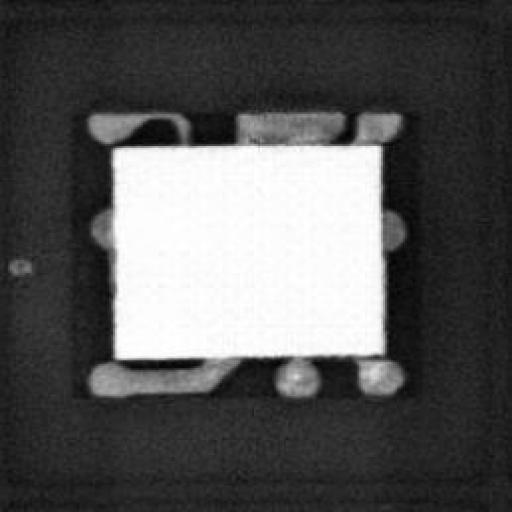DIE_INK: (4, 254, 34, 277)
